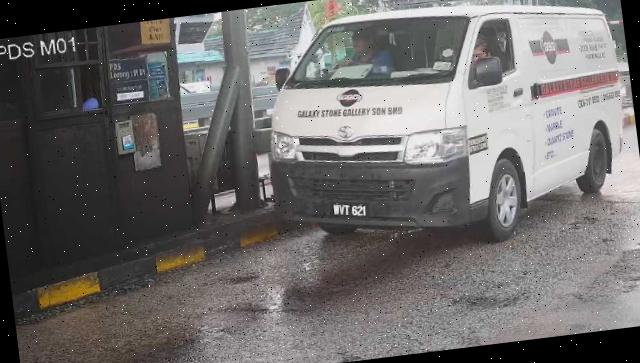License_Plate: (328, 195, 373, 226)
van: (253, 1, 637, 270)
